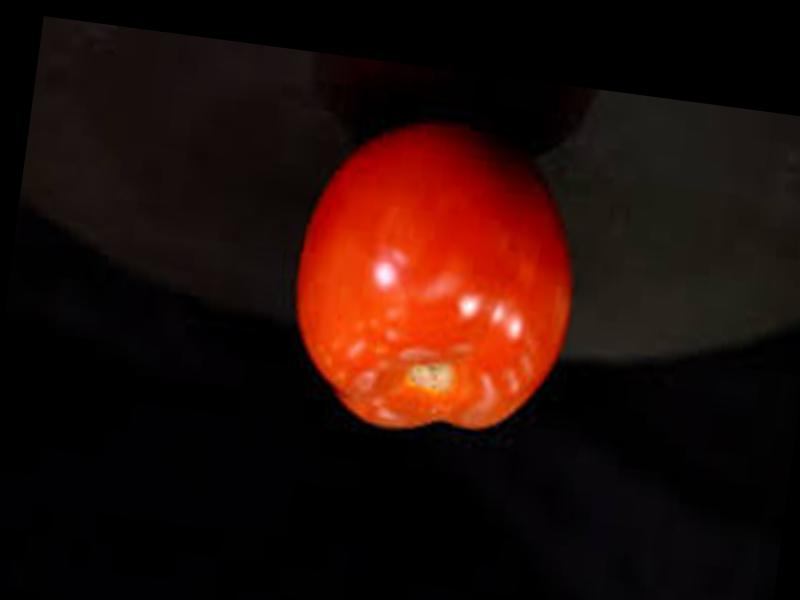Tomato: (275, 112, 590, 450)
